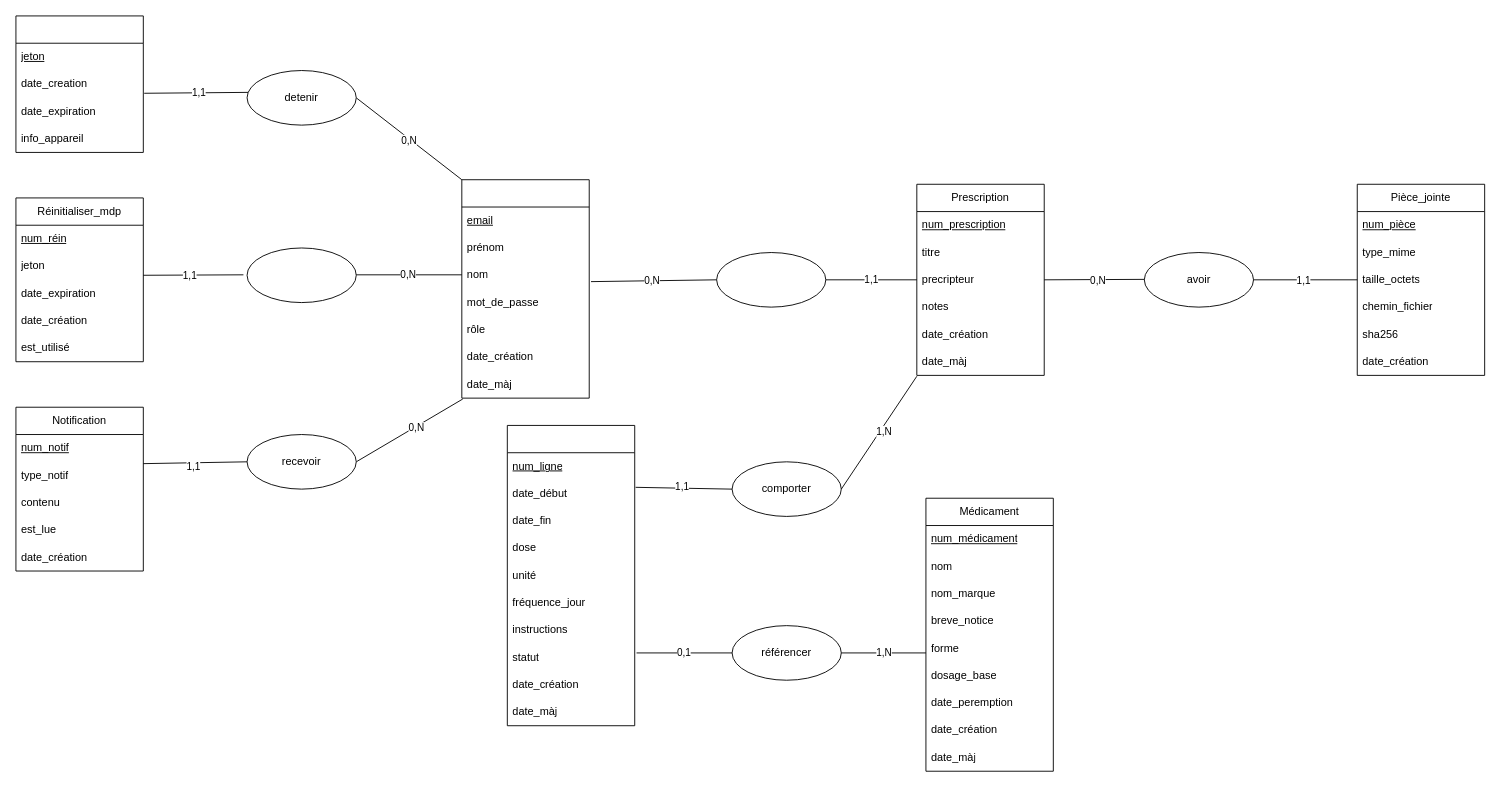
The diagram is 1501 pixels wide and 787 high, and some of its shapes have lost their labels. Here are the shapes that lost their labels. From the top down, the box of each, then its label:
(15, 15, 143, 152): Jeton_rafraichissement
(246, 247, 356, 303): demander
(461, 179, 589, 398): Utilisateur
(716, 252, 826, 307): Posseder
(506, 425, 635, 726): Ligne_prescription
